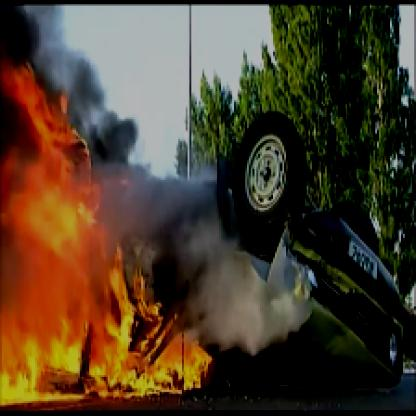Fire: (2, 52, 225, 414)
